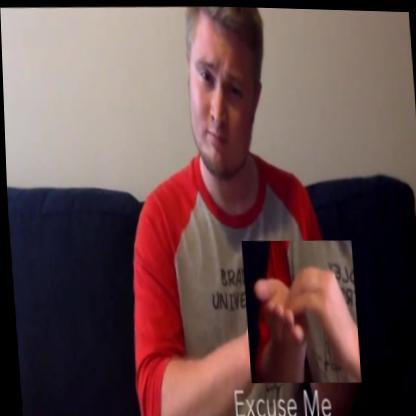ExcuseMe: (240, 235, 359, 384)
